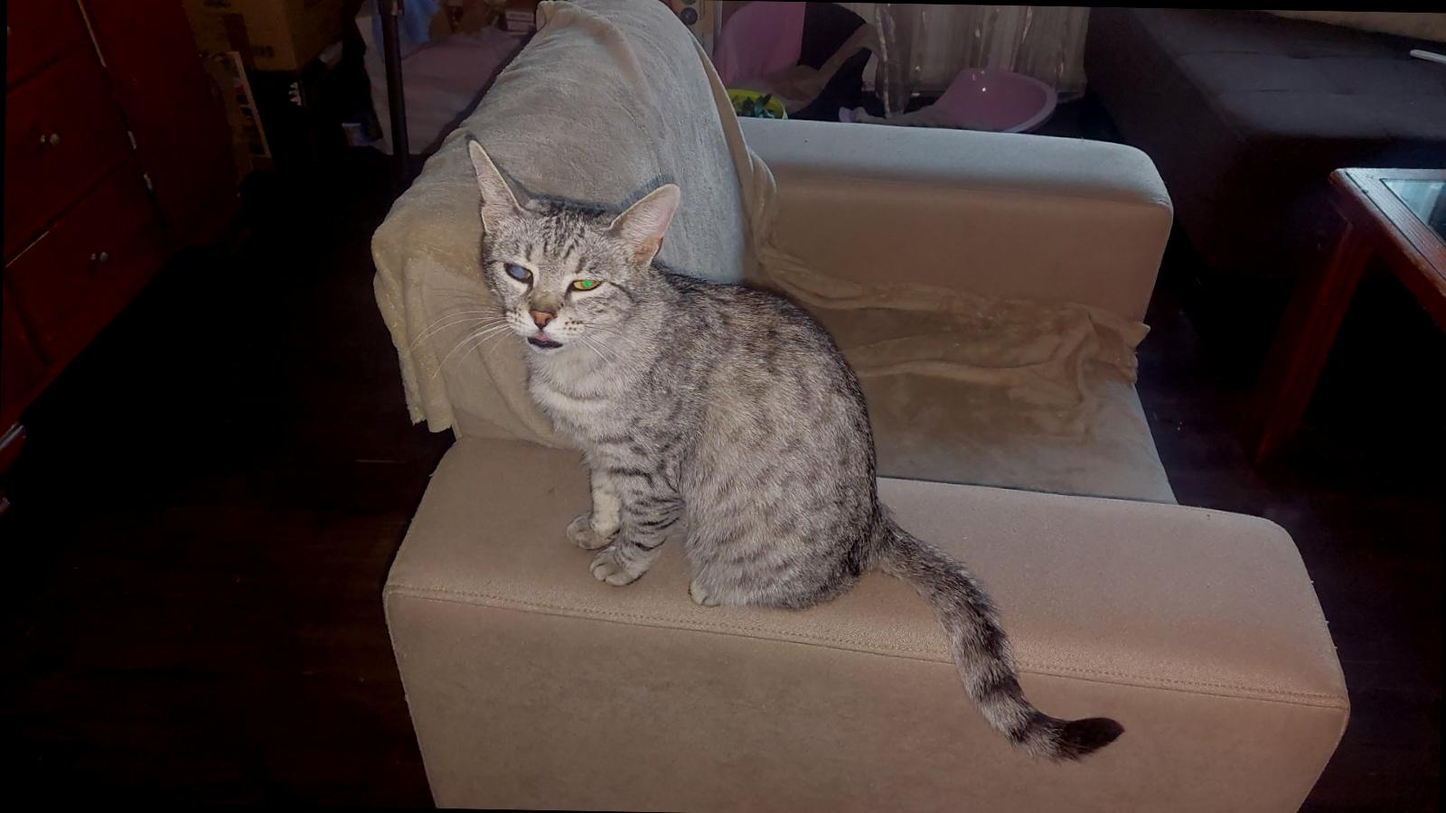macka: (455, 137, 1134, 762)
